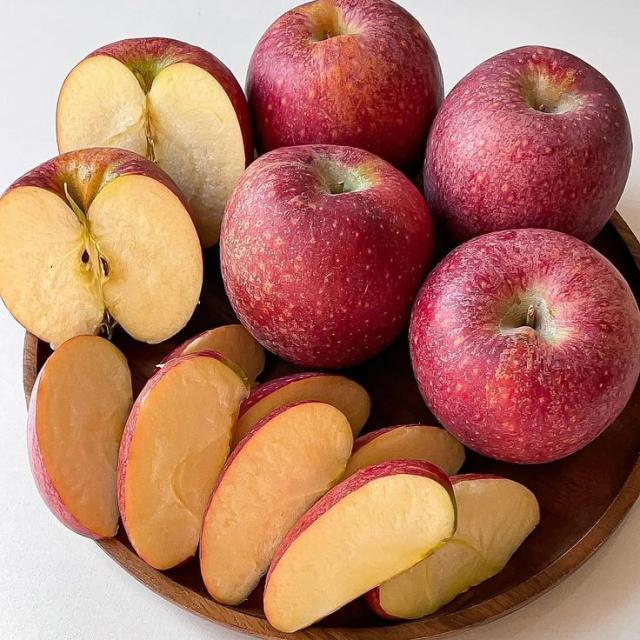apple: (410, 229, 639, 462), (220, 146, 433, 368), (57, 38, 253, 246), (424, 47, 632, 241), (0, 148, 202, 346), (247, 0, 443, 174), (264, 460, 456, 632), (200, 402, 353, 604), (118, 352, 248, 569), (367, 474, 539, 619), (28, 336, 132, 538), (233, 373, 370, 446), (346, 425, 465, 476), (161, 325, 265, 383)
